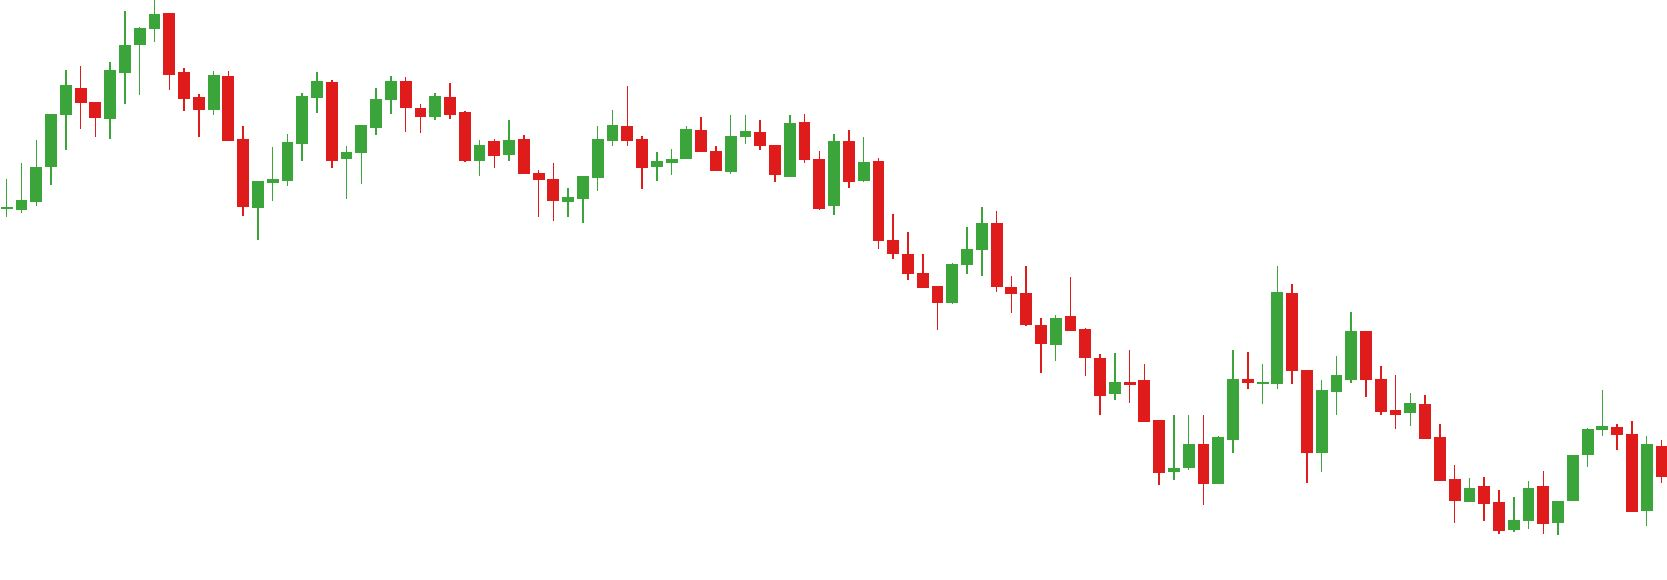buy: (14, 98, 267, 241)
sell: (502, 85, 634, 180)
